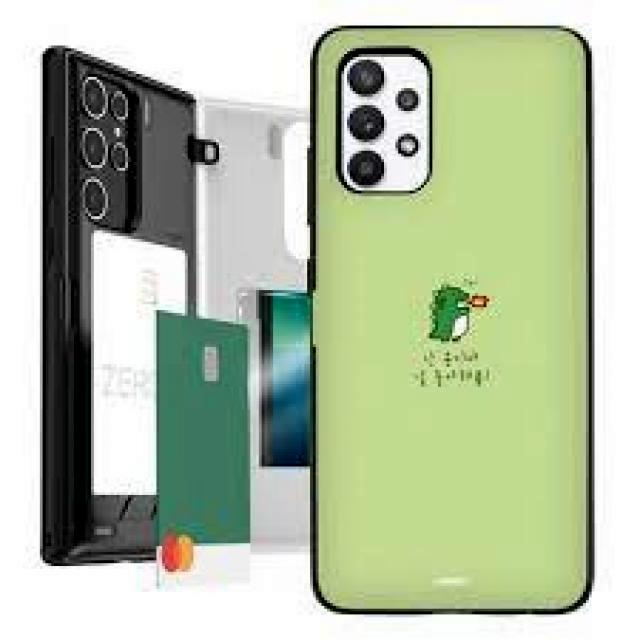lens_back: (73, 174, 114, 230), (70, 124, 113, 173), (342, 146, 388, 188), (342, 58, 390, 98), (343, 104, 391, 143), (75, 74, 108, 124), (108, 139, 134, 181), (393, 83, 421, 114), (110, 89, 132, 127)
phone: (306, 19, 599, 619)
